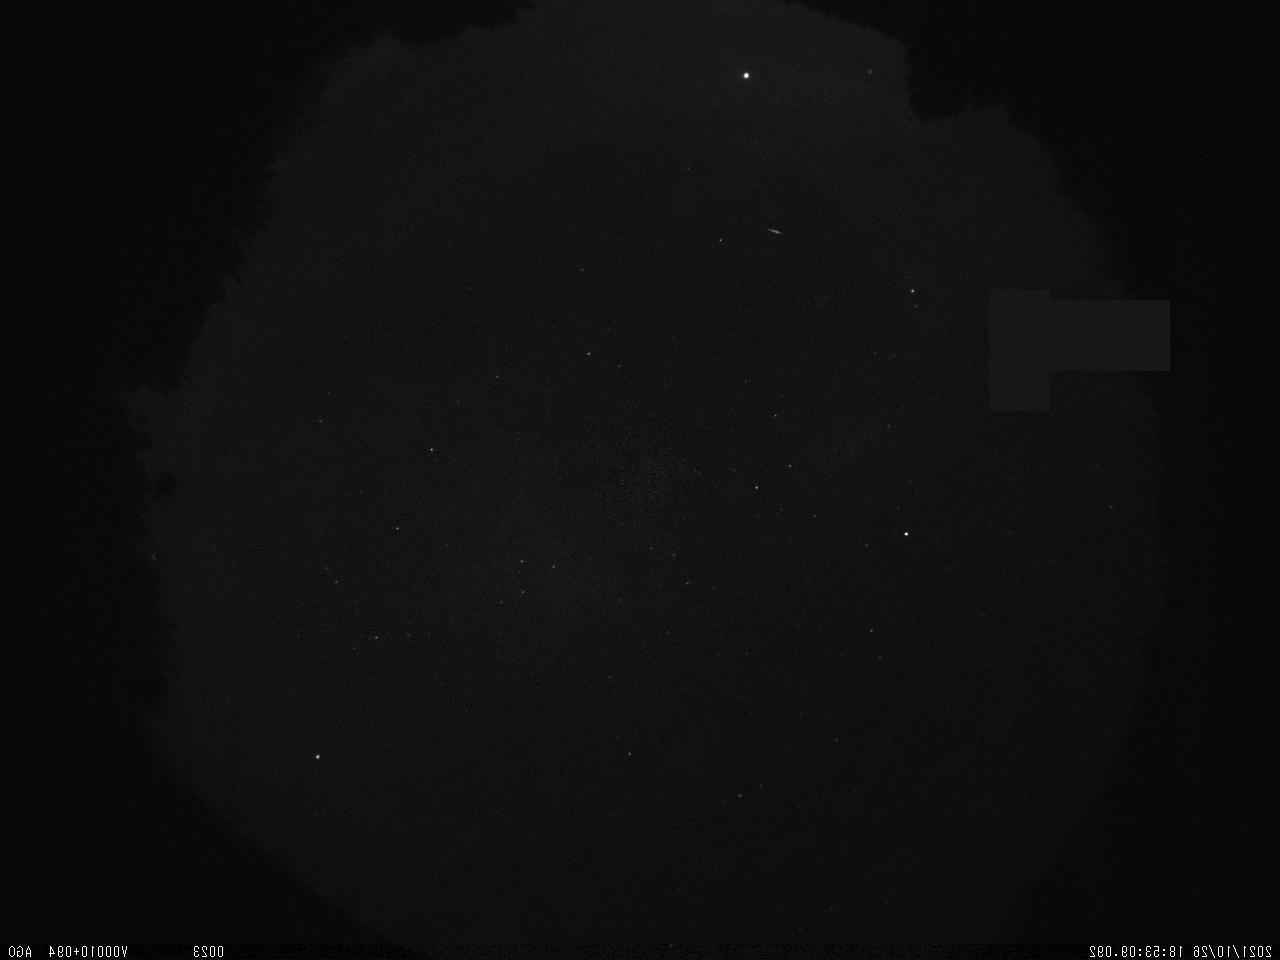meteor: (752, 220, 791, 242)
